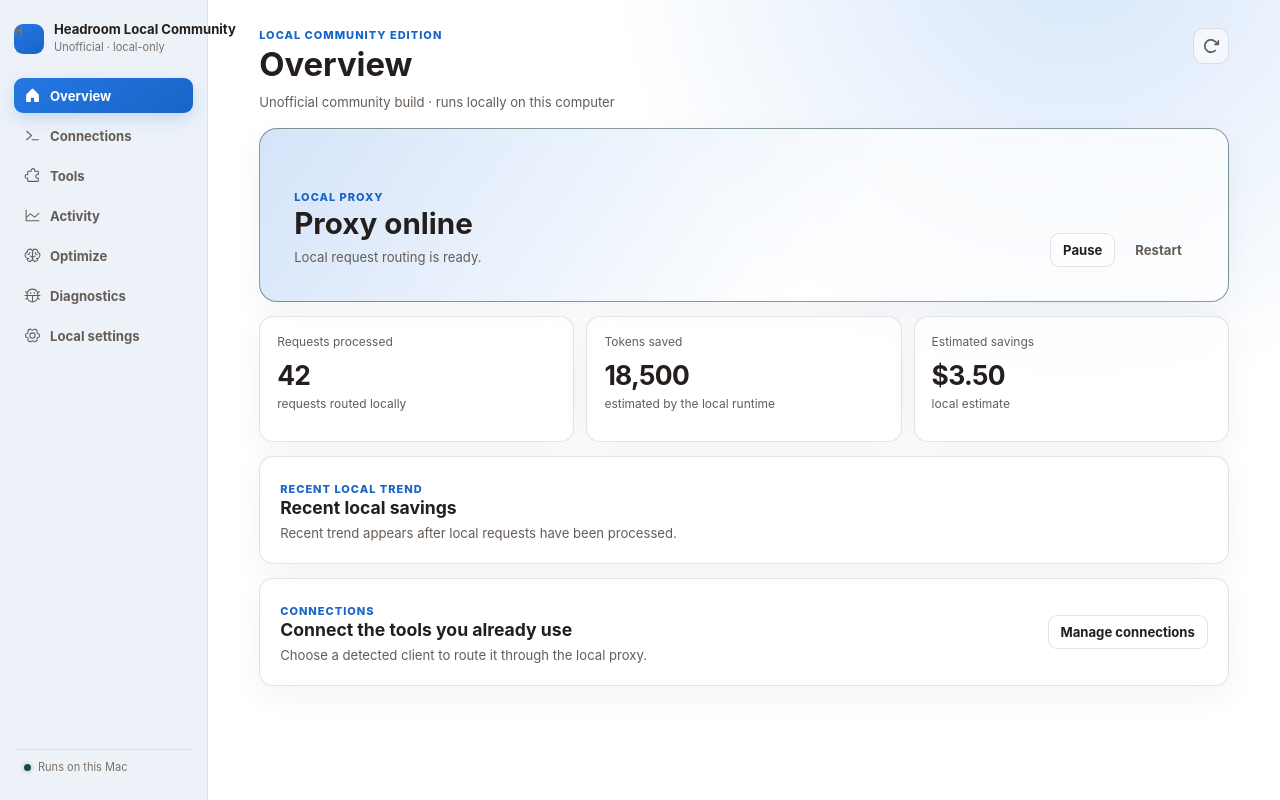
it: CommunityApp › loads the local Activity feed only after the Activity view is opened
This screenshot has width=1280, height=800.
Expected: the heading "Proxy online" is shown, [294, 205, 482, 241]
Click the button "Activity".
click(104, 216)  # box [14, 198, 193, 233]
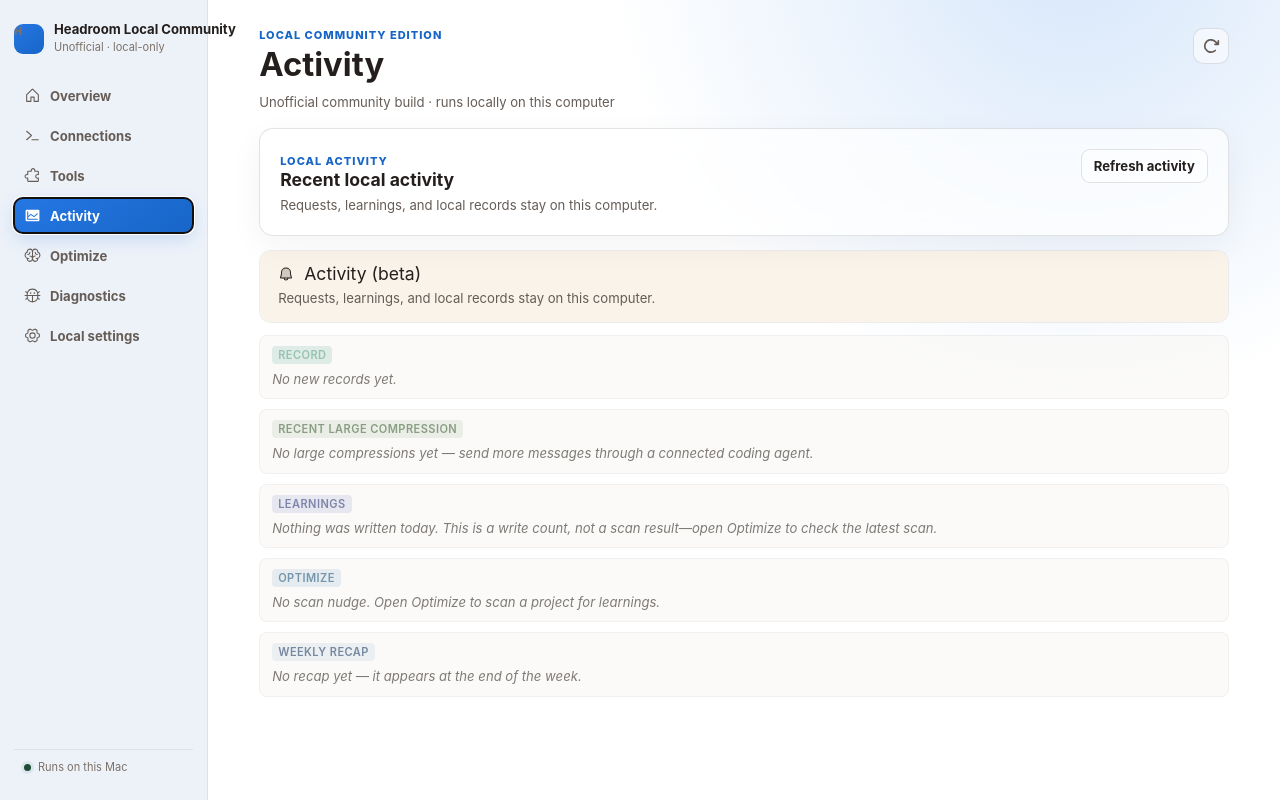
Expected: the heading "Recent local activity" is shown, [280, 169, 454, 190]
